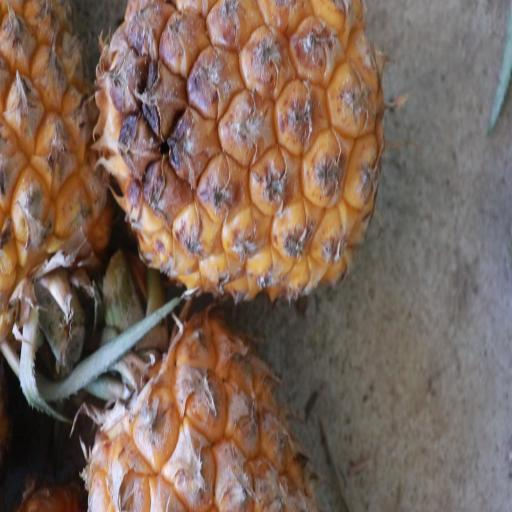Pineapple - v8 v1: (86, 0, 393, 311), (79, 299, 317, 512)
